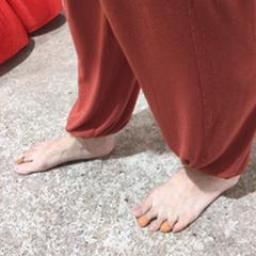Medial View -Right Foot-: (8, 105, 129, 180)
